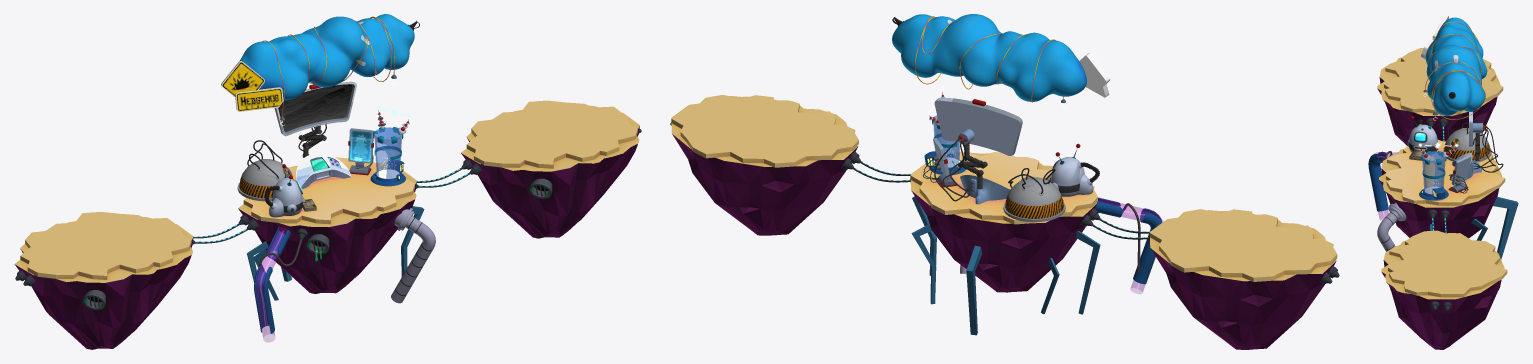
Rendered from second-island.glb.
The picture shows the model from 3 angles, left to right: view 1: azimuth 30°, elevation 25°; view 2: azimuth 150°, elevation 25°; view 3: azimuth 270°, elevation 25°; orthographic projection. The views are drawn at different scales.
Visible parts, largest first — view 1: Object_20, Object_2, Object_13, Object_6, Object_7, Object_21, Object_14, Object_23, Object_25, Object_18, Object_9, Object_16 (+3 smaller); view 2: Object_20, Object_2, Object_13, Object_6, Object_12, Object_14, Object_23, Object_7, Object_16, Object_21, Object_11, Object_25 (+2 smaller); view 3: Object_20, Object_2, Object_6, Object_7, Object_14, Object_13, Object_23, Object_12, Object_18, Object_25, Object_4, Object_16 (+2 smaller).
Boxes of the visible parts, x1,y1,x2,y2 form: Object_20: (14,100,639,349); Object_2: (221,14,419,125); Object_13: (274,81,356,188); Object_6: (244,157,414,220); Object_7: (254,208,435,333); Object_21: (15,128,641,310); Object_14: (237,140,293,201); Object_23: (265,164,315,217); Object_25: (370,110,409,186); Object_18: (374,127,401,178); Object_9: (255,227,286,341); Object_16: (348,128,373,175); Object_20: (671,95,1337,349); Object_2: (892,14,1110,107); Object_13: (934,97,1022,204); Object_6: (910,151,1097,220); Object_12: (911,196,1100,335); Object_14: (1003,168,1065,222); Object_23: (1044,143,1099,196); Object_7: (960,197,1162,284); Object_16: (923,138,960,187); Object_21: (670,122,1339,283); Object_11: (852,161,1149,239); Object_25: (924,92,966,174); Object_20: (1377,48,1507,349); Object_2: (1420,14,1487,120); Object_6: (1386,140,1504,202); Object_7: (1368,151,1406,251); Object_14: (1442,116,1491,162); Object_13: (1452,111,1503,178); Object_23: (1407,116,1438,158); Object_12: (1430,197,1518,259); Object_18: (1422,151,1445,194); Object_25: (1419,147,1456,200); Object_4: (1425,22,1485,119); Object_16: (1448,155,1471,193).
Size of what is drawn, in the model's own units: 387 by 163 by 96.89.
19 materials, 13 textured.
